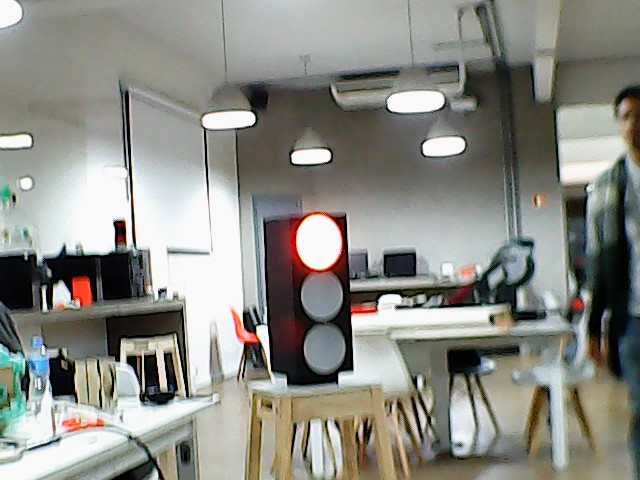vermelho: (261, 212, 362, 377)
